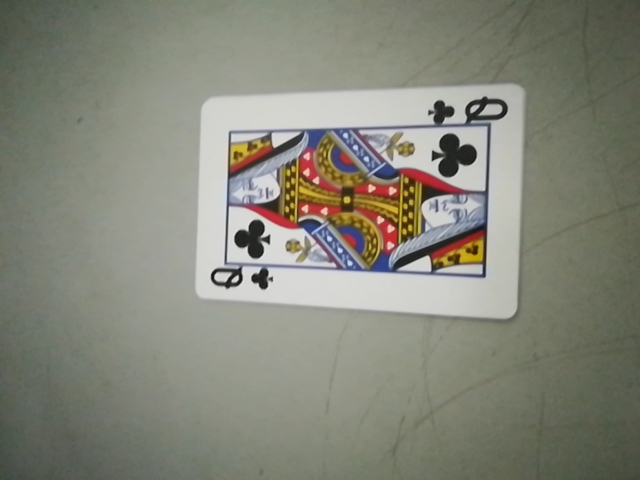mh q: (431, 92, 512, 127), (204, 260, 276, 298)
